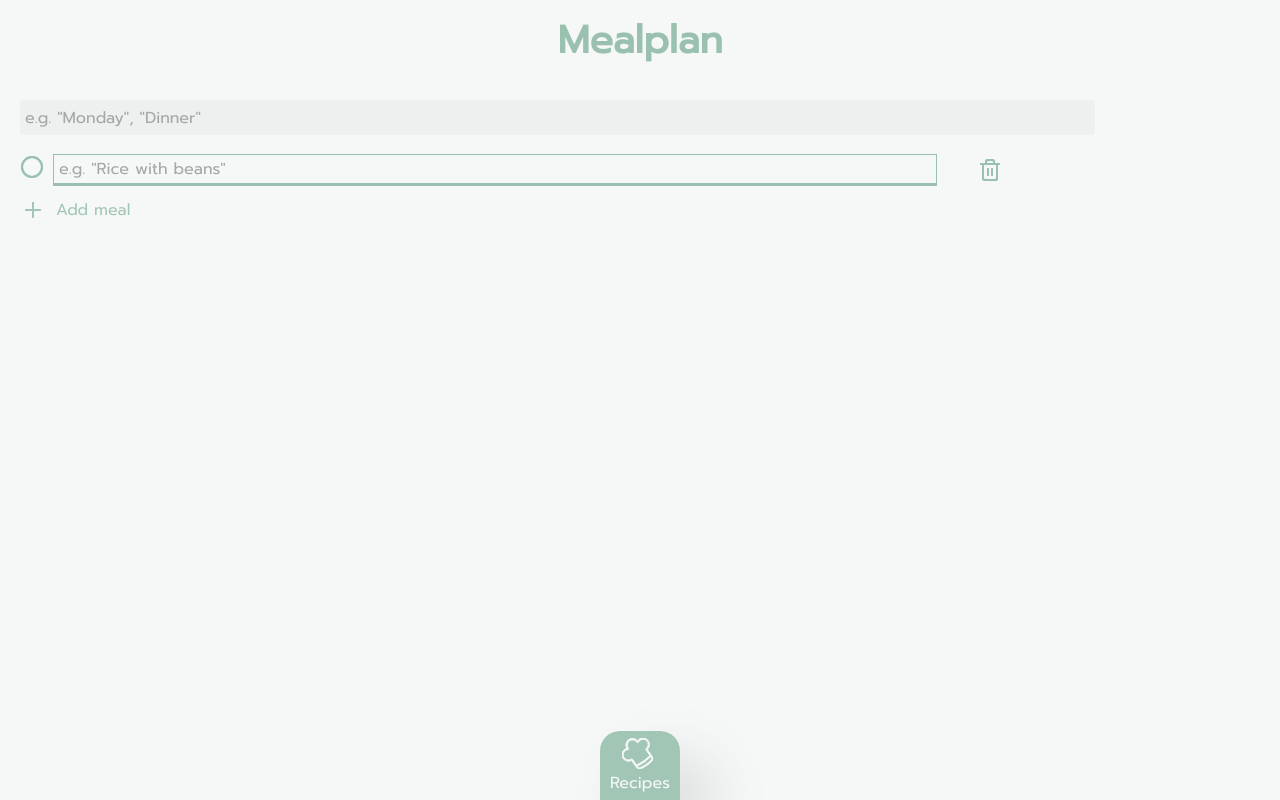
Test: MealplanList › gives focus to lastly added input field
Type "Burritos" into the list item at (527, 170), box [20,155,1034,185]
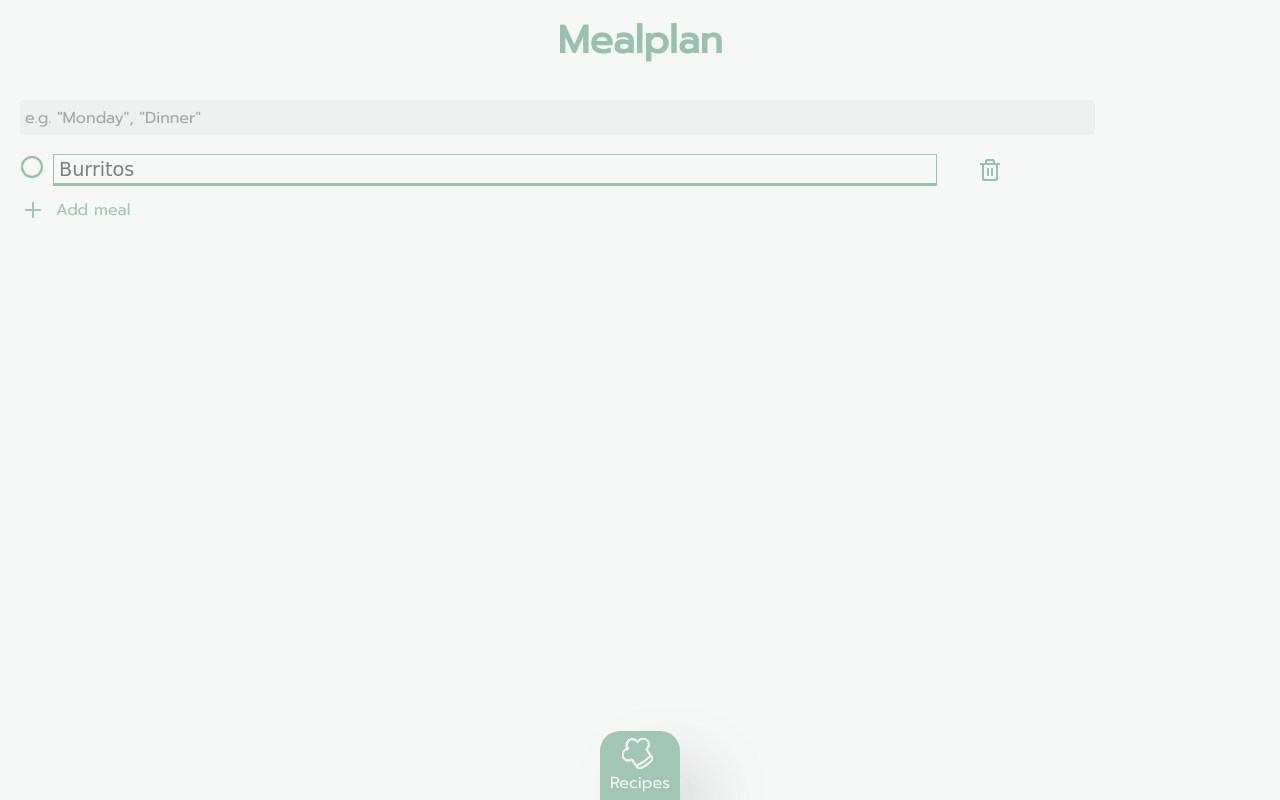
Click the button named "addbutton" at (93, 210), box [20,195,980,225]
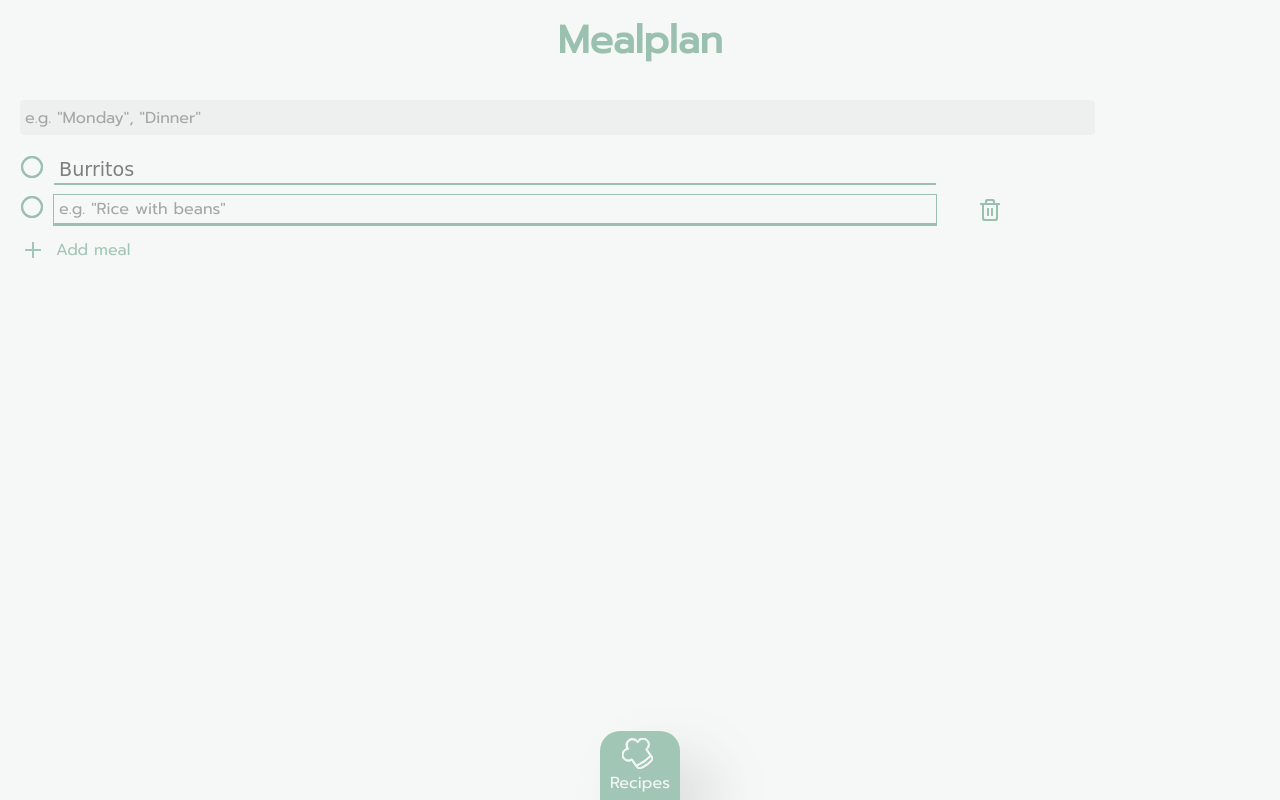
Press Falafel Wrap
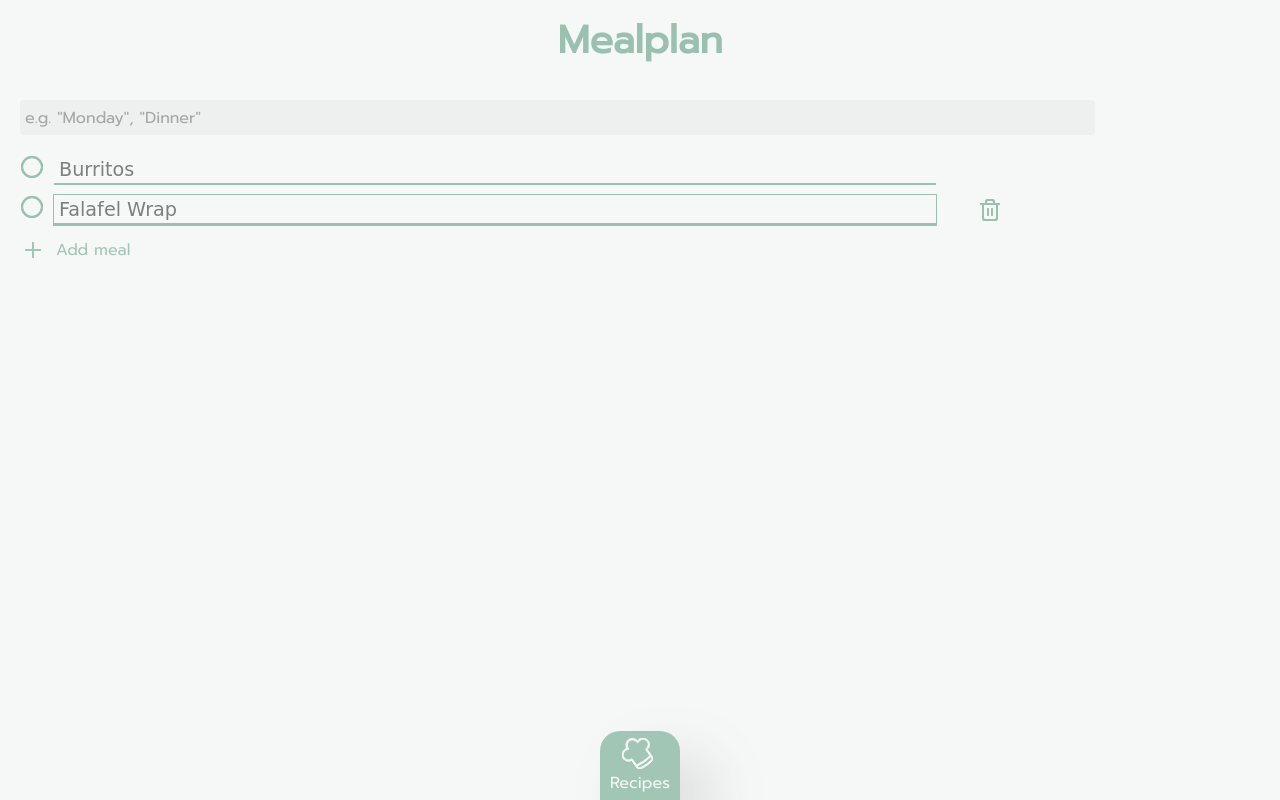
Check: the 3rd field holds "Falafel Wrap", box [54,195,936,225]
Click the button named "addbutton" at (93, 250), box [20,235,980,265]
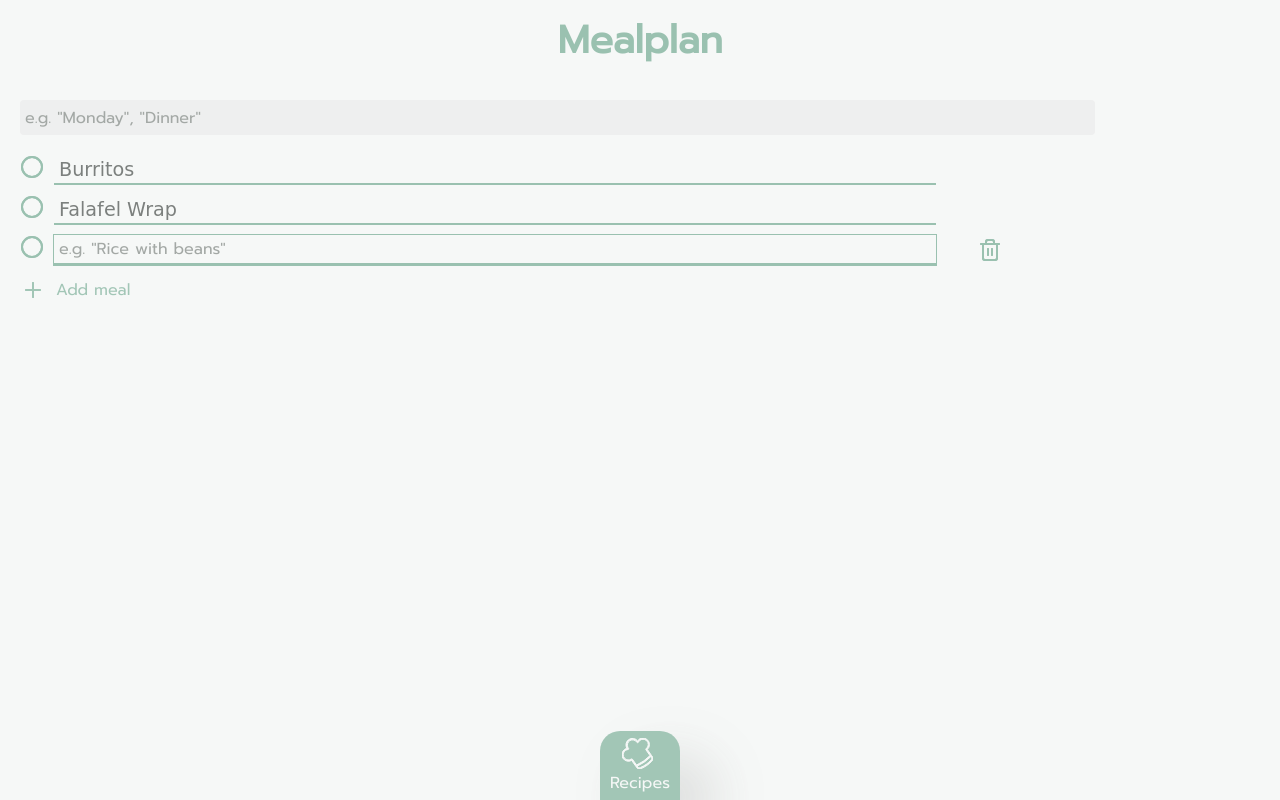
Press Yakisoba
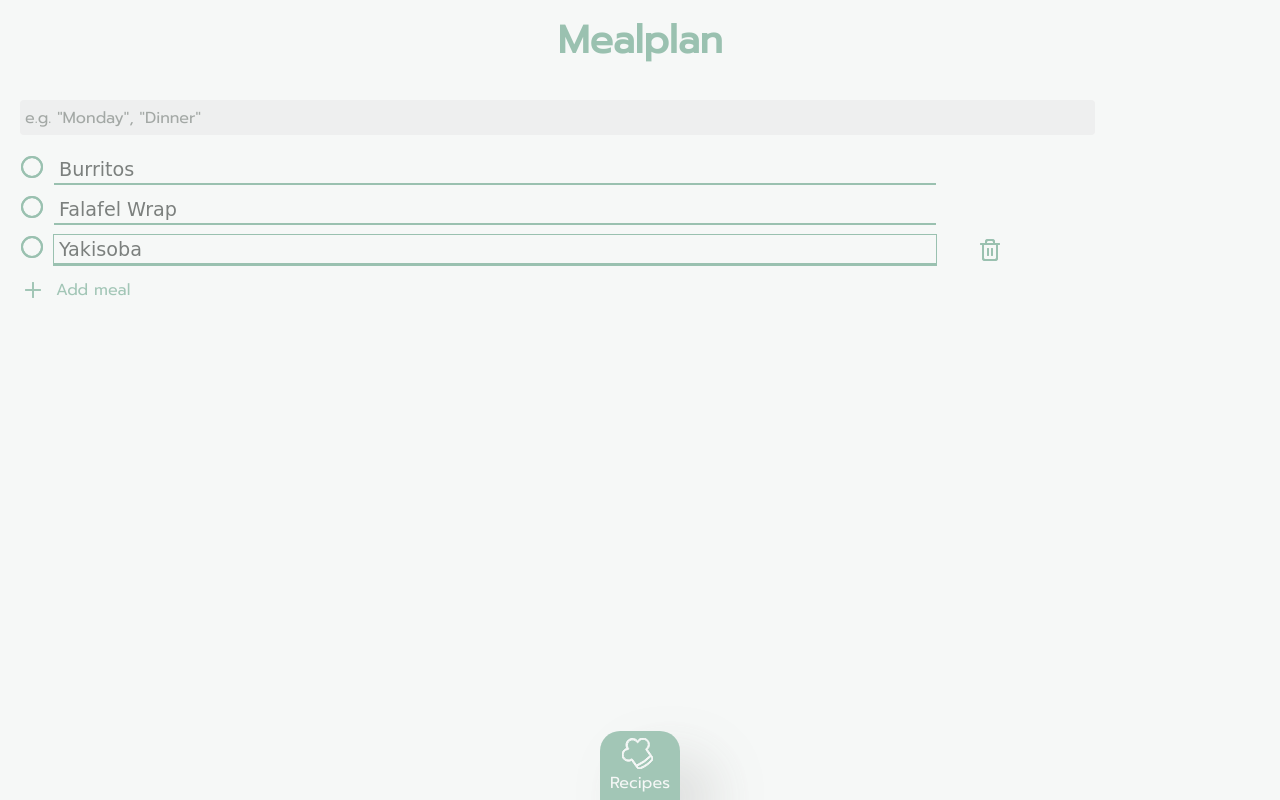
Check: the 4th field holds "Yakisoba", box [54,235,936,265]
